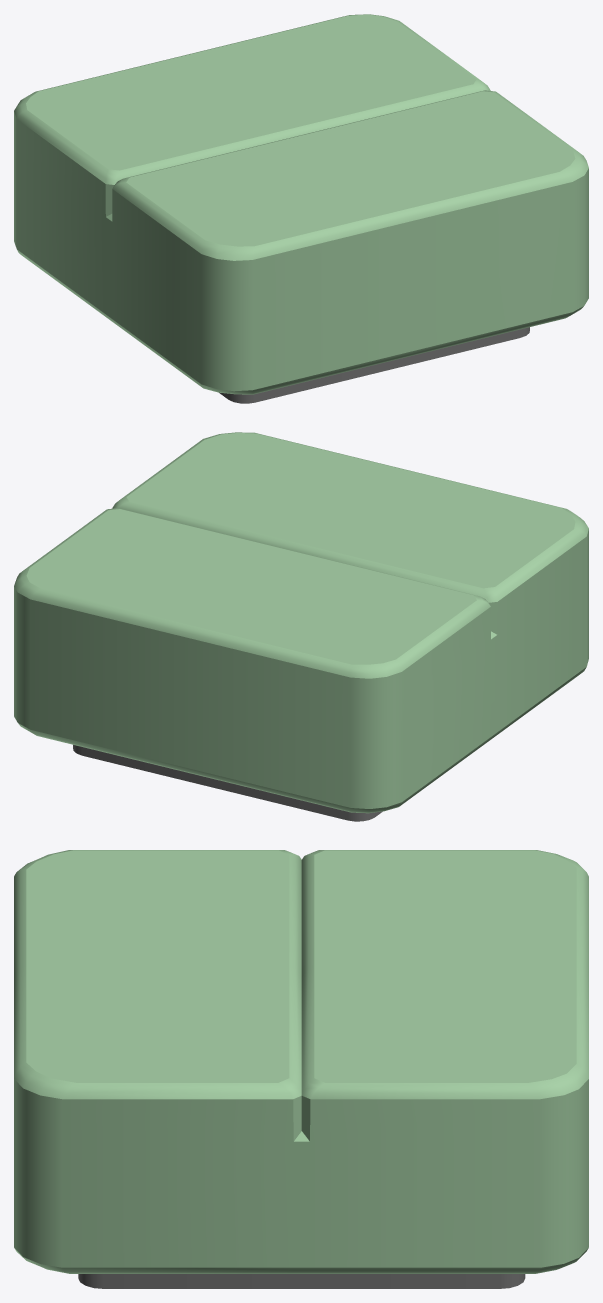
Rendered from movie-nelio-kuutio.fbx.
3 renders of one model, top to bottom at view 1: azimuth 30°, elevation 25°; view 2: azimuth 150°, elevation 25°; view 3: azimuth 270°, elevation 25°, orthographic. The views are drawn at different scales.
Visible parts, largest first — view 1: BenchTop, BenchBase; view 2: BenchTop, BenchBase; view 3: BenchTop, BenchBase.
Boxes of the visible parts, left/top/right/bottom form: BenchTop: left=14, top=14, right=588, bottom=394; BenchBase: left=219, top=327, right=529, bottom=403; BenchTop: left=14, top=432, right=588, bottom=813; BenchBase: left=73, top=745, right=382, bottom=821; BenchTop: left=14, top=850, right=588, bottom=1273; BenchBase: left=78, top=1274, right=525, bottom=1288.
Size of the model in its own units: 450 by 197 by 450.
